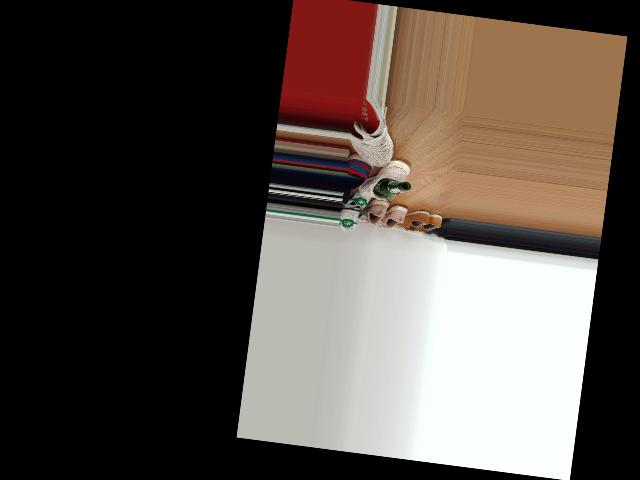beer: (373, 177, 411, 199)
